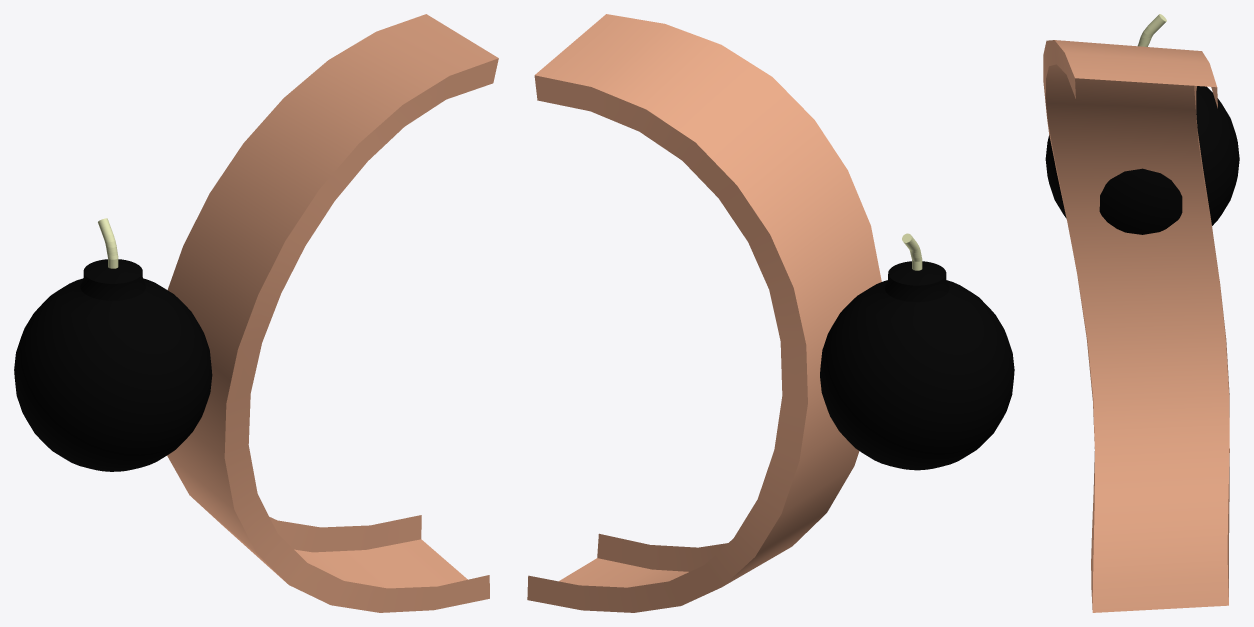
Rendered from BombRight.fbx.
The picture shows the model from 3 angles, left to right: view 1: azimuth 30°, elevation 25°; view 2: azimuth 150°, elevation 25°; view 3: azimuth 270°, elevation 25°; orthographic projection. The views are drawn at different scales.
Parts seen in each view (by area): view 1: Sphere.002; view 2: Sphere.002; view 3: Sphere.002.
Boxes of the visible parts, box(x1,y1,x2,y2) form: Sphere.002: box(14, 14, 498, 612); Sphere.002: box(527, 14, 1014, 612); Sphere.002: box(1043, 14, 1239, 612).
Bounding box in the file's own units: 351 × 419 × 139.
